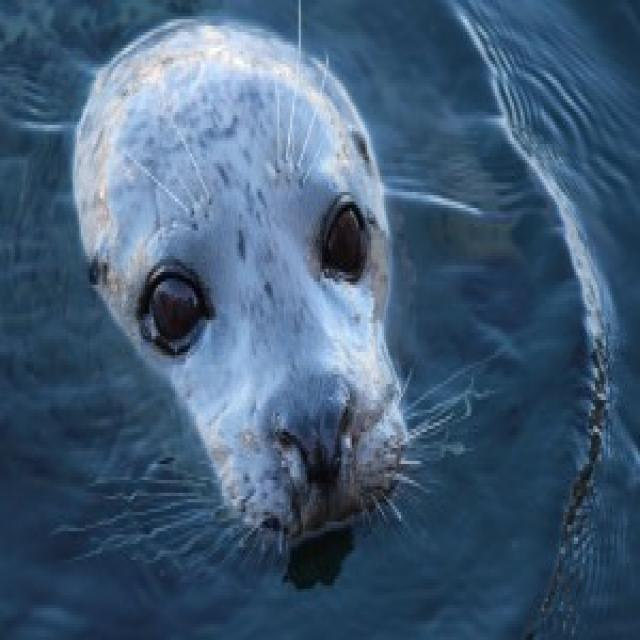Seal: (58, 0, 406, 640)
